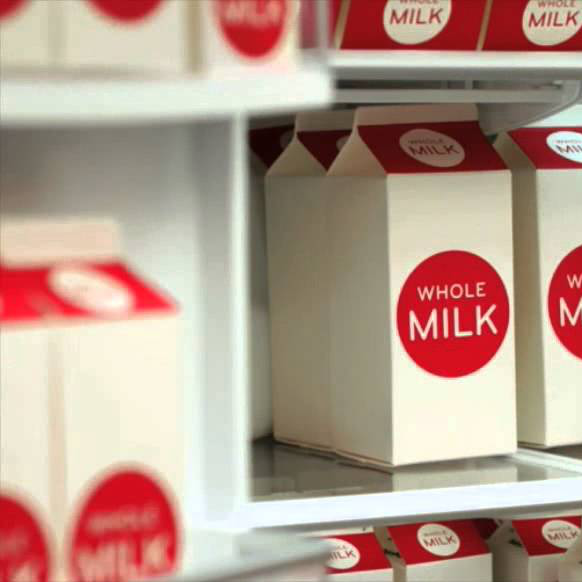milk: (246, 106, 582, 467), (1, 212, 184, 582), (304, 513, 582, 580)
